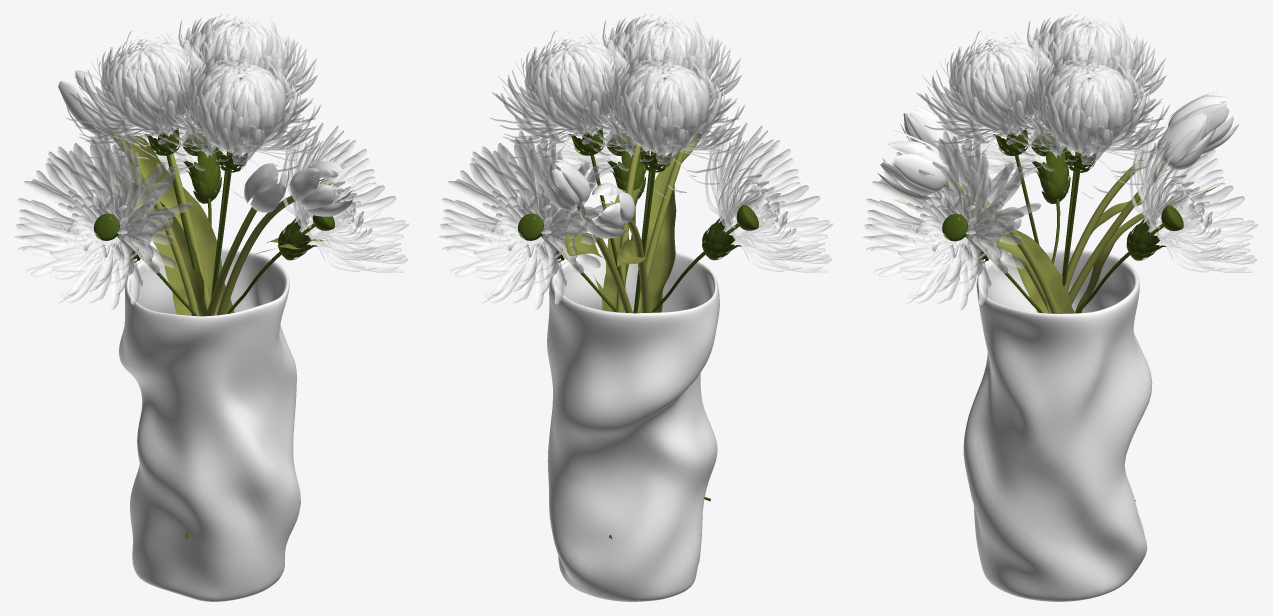
File: bouquet_1735063670685.glb
The picture shows the model from 3 angles, left to right: view 1: azimuth 30°, elevation 25°; view 2: azimuth 150°, elevation 25°; view 3: azimuth 270°, elevation 25°; orthographic projection.
Size of the model in its own units: 1.78 by 2.76 by 1.84.
